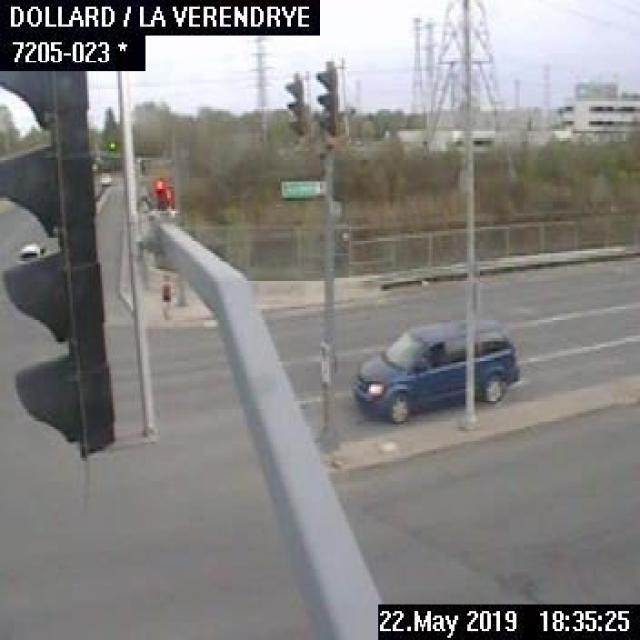pedestrian: (158, 271, 171, 320)
vehicle: (349, 316, 522, 424), (14, 240, 44, 264), (98, 170, 110, 184)
